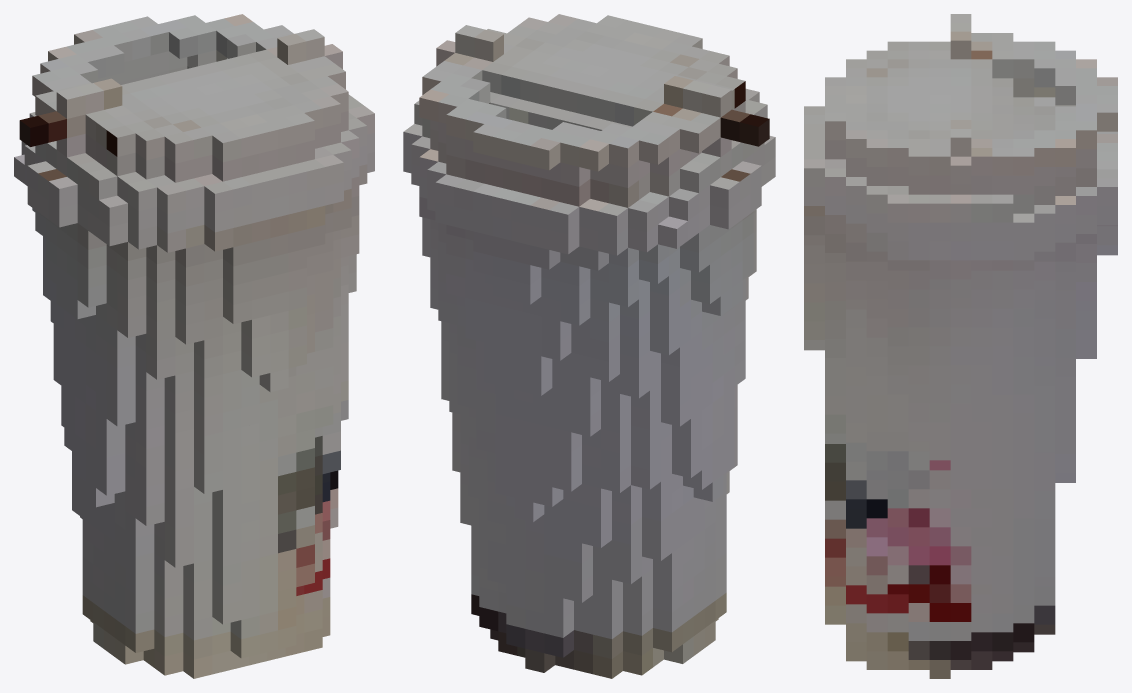
File: drink.glb
3 renders of one model, left to right at view 1: azimuth 30°, elevation 25°; view 2: azimuth 150°, elevation 25°; view 3: azimuth 270°, elevation 25°, orthographic. The views are drawn at different scales.
Visible parts, largest first — view 1: tripo_node_9b5d9255-69cc-4ee5-8350-aef23ffa365d; view 2: tripo_node_9b5d9255-69cc-4ee5-8350-aef23ffa365d; view 3: tripo_node_9b5d9255-69cc-4ee5-8350-aef23ffa365d.
Boxes of the visible parts, left/top/right/bottom form: tripo_node_9b5d9255-69cc-4ee5-8350-aef23ffa365d: left=14, top=14, right=374, bottom=678; tripo_node_9b5d9255-69cc-4ee5-8350-aef23ffa365d: left=403, top=14, right=775, bottom=678; tripo_node_9b5d9255-69cc-4ee5-8350-aef23ffa365d: left=804, top=14, right=1117, bottom=678.
Size of the model in its own units: 0.5599 by 0.9552 by 0.494.
Materials: 1 (1 with a texture image).
